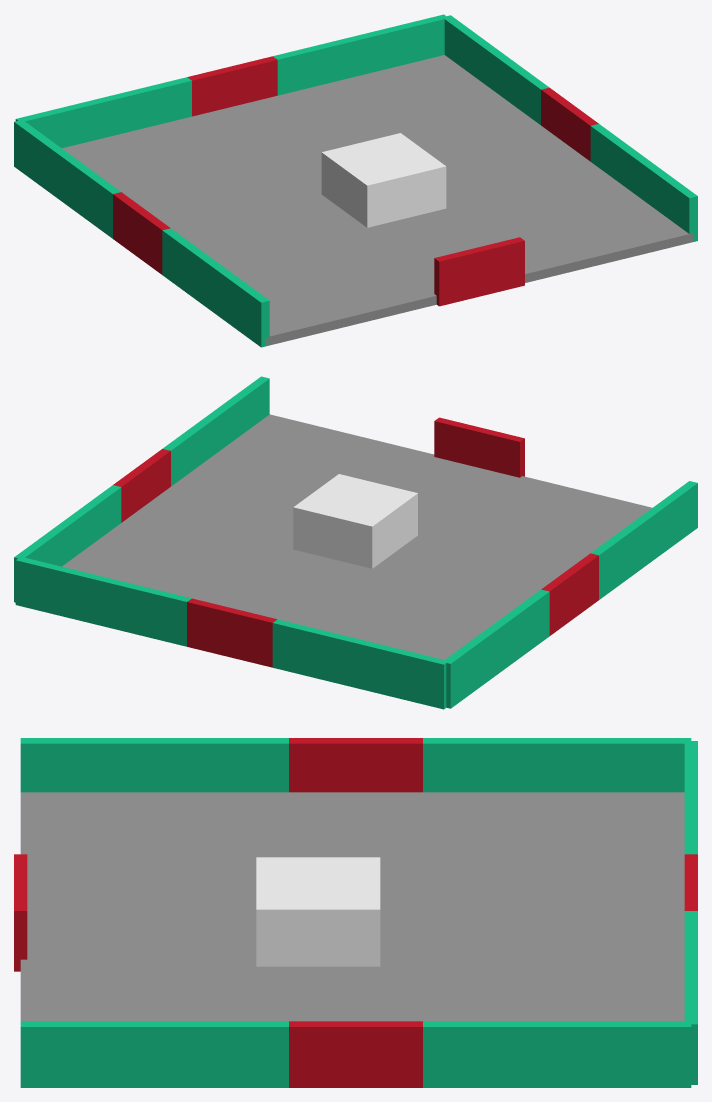
The model's file is Room.fbx.
3 renders of one model, top to bottom at view 1: azimuth 30°, elevation 25°; view 2: azimuth 150°, elevation 25°; view 3: azimuth 270°, elevation 25°, orthographic. The views are drawn at different scales.
Parts seen in each view (by area): view 1: Floor, Cube, Walls_1, Walls, Walls_2, Walls_4, Walls_3, Door_North, Walls_5, Door_South, Door_East, Door_West; view 2: Floor, Cube, Walls, Walls_1, Walls_4, Walls_2, Walls_3, Door_South, Walls_5, Door_North, Door_East, Door_West; view 3: Floor, Walls_3, Walls_5, Walls_2, Walls_4, Cube, Door_West, Door_East, Walls_1, Walls, Door_North, Door_South.
Boxes of the visible parts, x1=… form: Floor: x1=62, y1=55, x2=693, y2=346; Cube: x1=321, y1=133, x2=446, y2=227; Walls_1: x1=273, y1=14, x2=448, y2=95; Walls: x1=15, y1=77, x2=191, y2=148; Walls_2: x1=162, y1=228, x2=269, y2=347; Walls_4: x1=14, y1=119, x2=120, y2=238; Walls_3: x1=590, y1=124, x2=697, y2=241; Door_North: x1=434, y1=237, x2=524, y2=306; Walls_5: x1=444, y1=15, x2=549, y2=124; Door_South: x1=187, y1=56, x2=277, y2=116; Door_East: x1=113, y1=192, x2=170, y2=274; Door_West: x1=541, y1=87, x2=598, y2=161; Floor: x1=62, y1=414, x2=652, y2=659; Cube: x1=293, y1=474, x2=417, y2=568; Walls: x1=272, y1=619, x2=448, y2=709; Walls_1: x1=15, y1=556, x2=191, y2=646; Walls_4: x1=444, y1=589, x2=549, y2=708; Walls_2: x1=591, y1=481, x2=697, y2=599; Walls_3: x1=162, y1=376, x2=269, y2=486; Door_South: x1=187, y1=598, x2=276, y2=667; Walls_5: x1=14, y1=485, x2=121, y2=602; Door_North: x1=434, y1=417, x2=524, y2=477; Door_East: x1=541, y1=553, x2=598, y2=635; Door_West: x1=113, y1=449, x2=170, y2=522; Floor: x1=20, y1=792, x2=684, y2=1021; Walls_3: x1=20, y1=1021, x2=288, y2=1087; Walls_5: x1=423, y1=1021, x2=691, y2=1087; Walls_2: x1=20, y1=738, x2=288, y2=792; Walls_4: x1=423, y1=738, x2=691, y2=792; Cube: x1=256, y1=857, x2=380, y2=966; Door_West: x1=289, y1=1021, x2=422, y2=1087; Door_East: x1=289, y1=738, x2=422, y2=792; Walls_1: x1=684, y1=911, x2=697, y2=1084; Walls: x1=684, y1=741, x2=697, y2=854; Door_North: x1=14, y1=854, x2=27, y2=971; Door_South: x1=684, y1=854, x2=697, y2=910.
Bounding box in the file's own units: 5100 × 924 × 5100.
